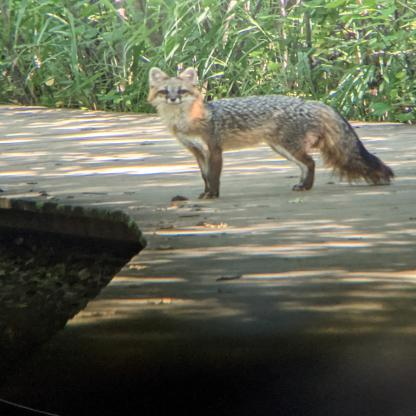zorro: (136, 62, 404, 198)
